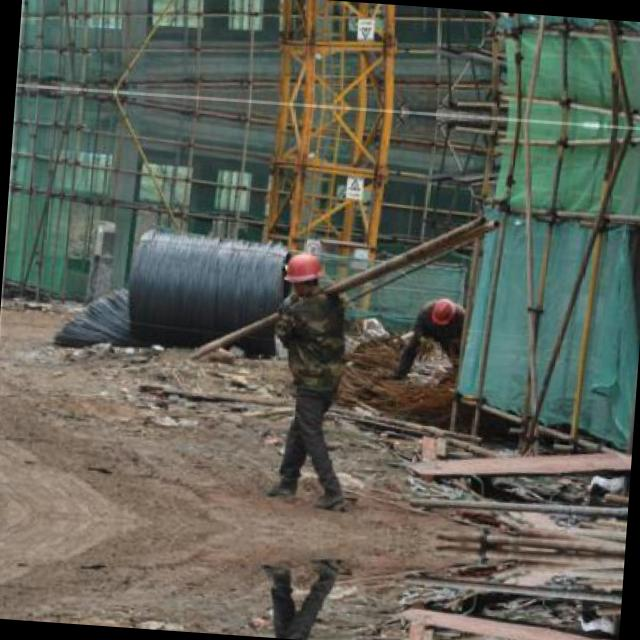helmet: (278, 246, 326, 298), (424, 294, 462, 329)
